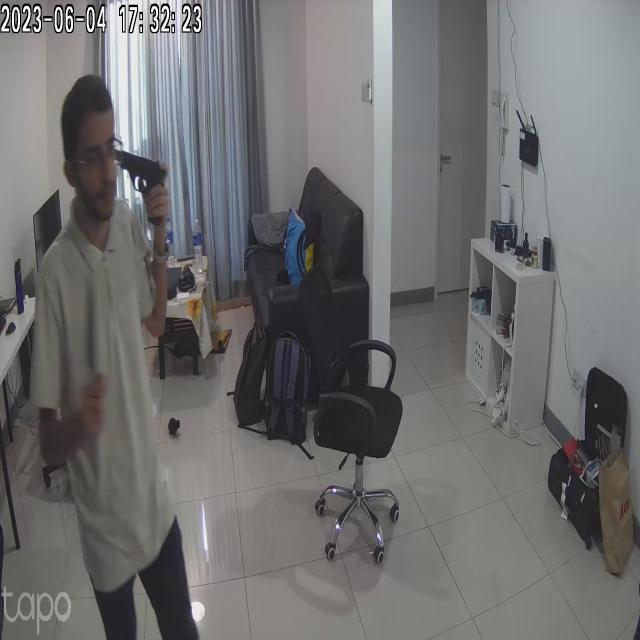Gun: (117, 147, 201, 214)
Knife: (79, 262, 124, 392)
